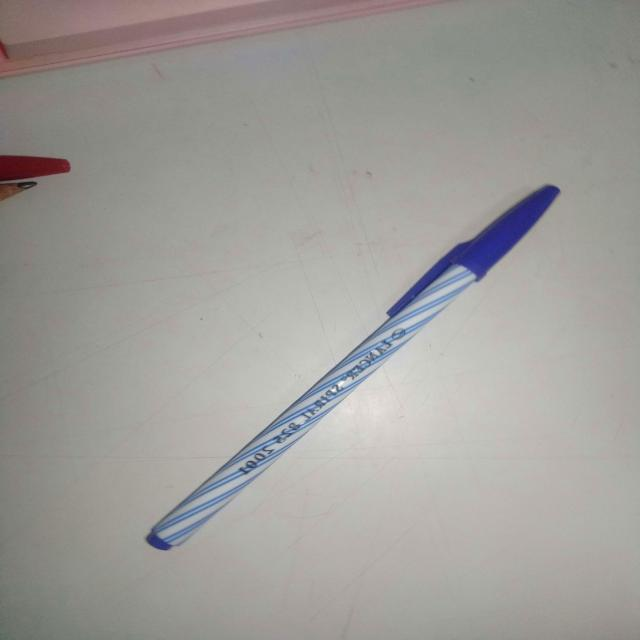pen_pencil: (118, 158, 584, 585)
